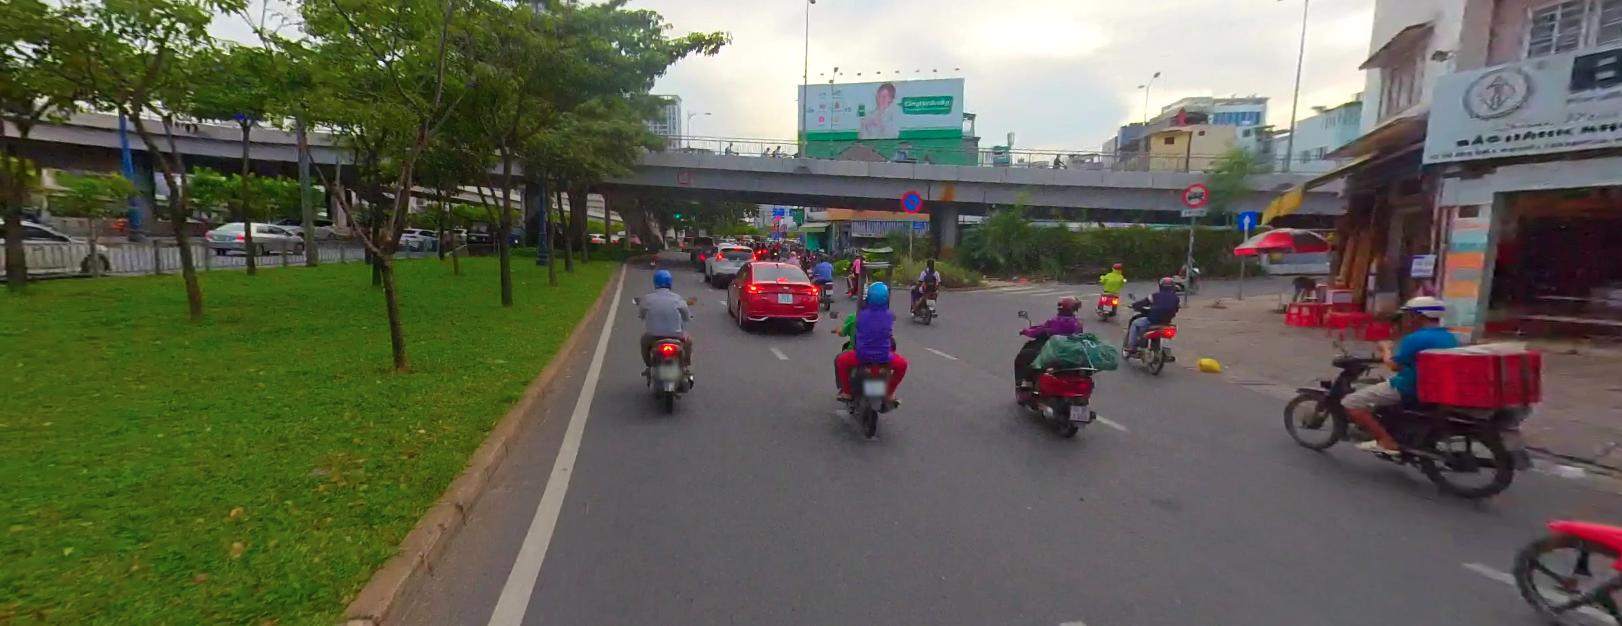Cam con lai: (1183, 182, 1207, 207), (675, 170, 688, 183)
Cam dung va do: (901, 190, 922, 212)
